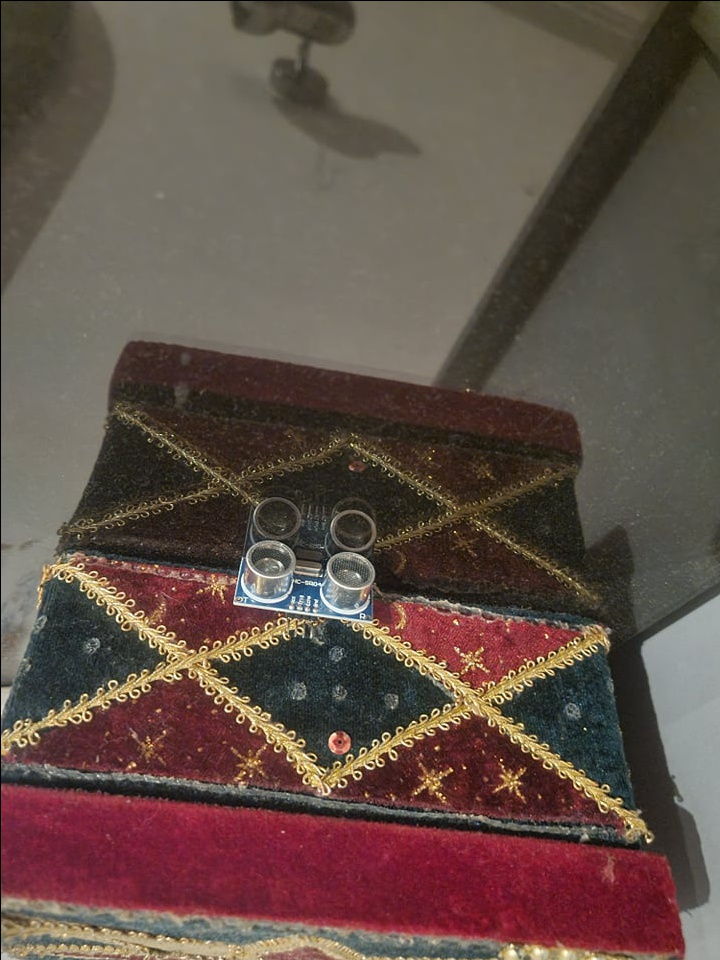SENSOR: (232, 536, 373, 623)
